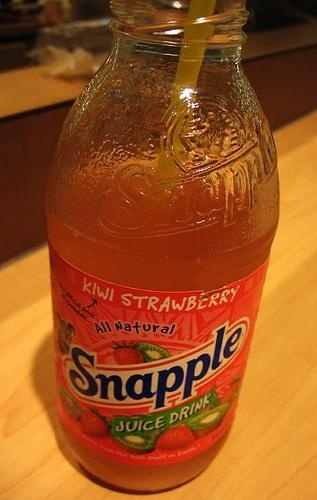bottle: (49, 1, 283, 497)
